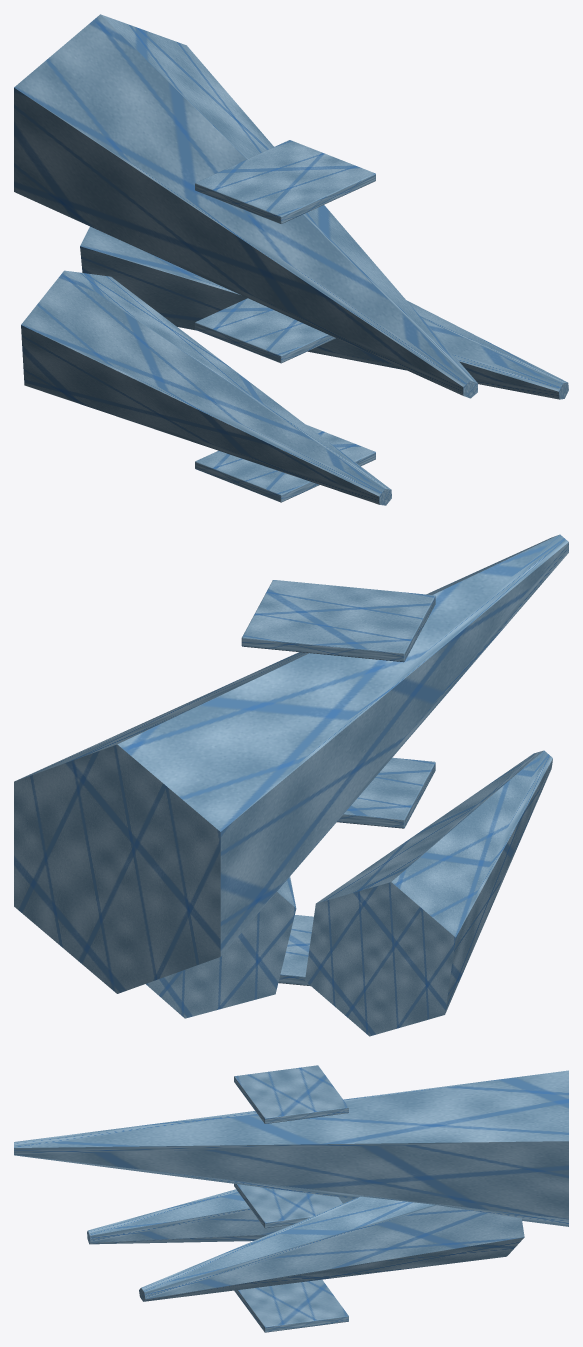
File: frozen_spire.glb
3 renders of one model, top to bottom at view 1: azimuth 30°, elevation 25°; view 2: azimuth 150°, elevation 25°; view 3: azimuth 270°, elevation 25°, orthographic. The views are drawn at different scales.
Visible parts, largest first — view 1: SpireShard_0, SpireShard_1, SpireShard_2, SpireIceBand_8.2, SpireIceBand_5.4, SpireIceBand_2.6; view 2: SpireShard_0, SpireShard_1, SpireIceBand_8.2, SpireShard_2, SpireIceBand_5.4, SpireIceBand_2.6; view 3: SpireShard_0, SpireShard_2, SpireShard_1, SpireIceBand_8.2, SpireIceBand_2.6, SpireIceBand_5.4.
Boxes of the visible parts, x1,y1,x2,y2 form: SpireShard_0: (14,14,477,398); SpireShard_1: (21,270,391,505); SpireShard_2: (80,226,568,399); SpireIceBand_8.2: (195,140,375,223); SpireIceBand_5.4: (195,298,335,363); SpireIceBand_2.6: (195,424,375,502); SpireShard_0: (14,534,568,993); SpireShard_1: (305,750,552,1036); SpireIceBand_8.2: (241,580,435,662); SpireShard_2: (146,876,296,1018); SpireIceBand_5.4: (337,757,435,828); SpireIceBand_2.6: (278,915,313,986); SpireShard_0: (14,1070,568,1226); SpireShard_2: (139,1196,524,1301); SpireShard_1: (87,1189,353,1244); SpireIceBand_8.2: (234,1065,348,1123); SpireIceBand_2.6: (234,1279,348,1332); SpireIceBand_5.4: (234,1183,342,1228).
Size of the model in its own units: 7.73 by 6.33 by 13.5.
Materials: 2 (2 with a texture image).
